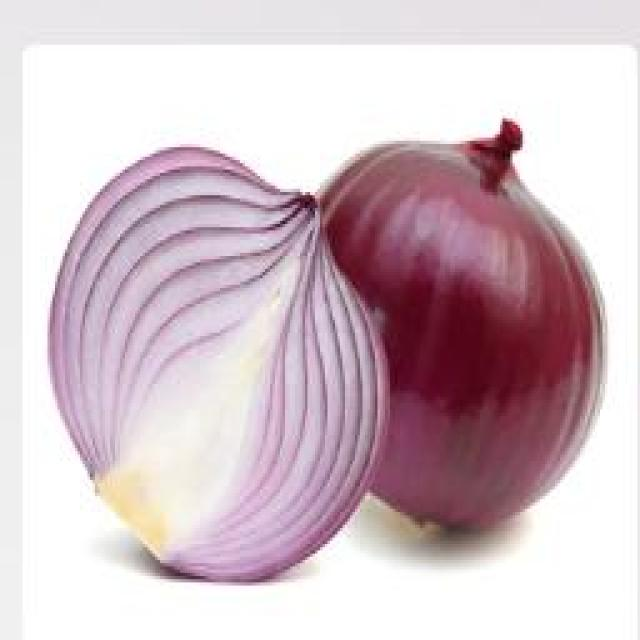Onion: (45, 155, 383, 581)
